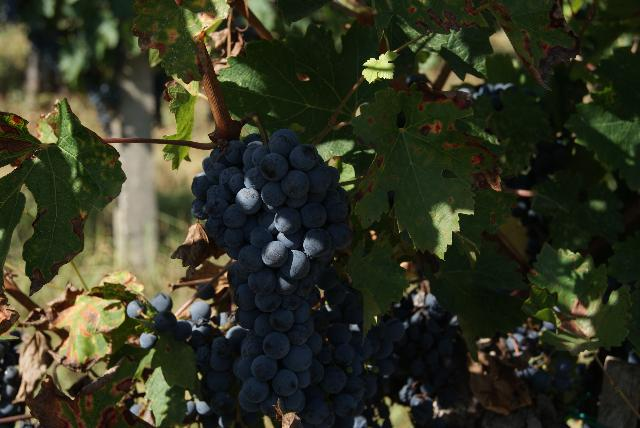grapes: (199, 129, 352, 411), (305, 304, 405, 419), (392, 291, 470, 398)
